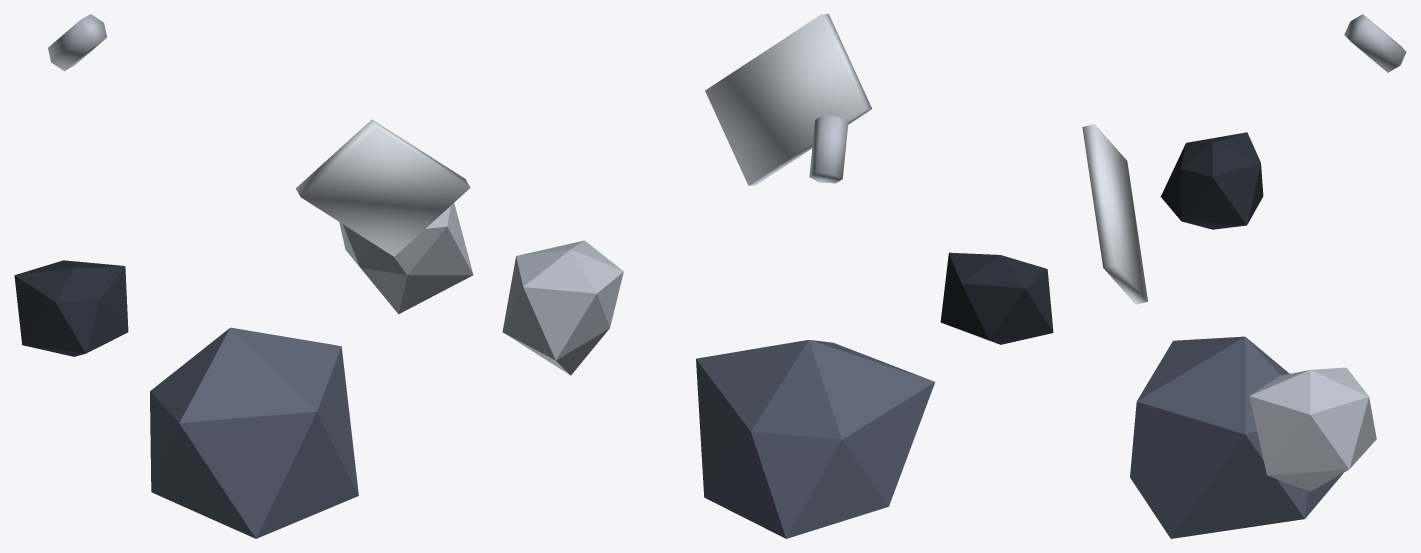
Rendered from Incident_Debris.glb.
3 renders of one model, left to right at view 1: azimuth 30°, elevation 25°; view 2: azimuth 150°, elevation 25°; view 3: azimuth 270°, elevation 25°, orthographic. The views are drawn at different scales.
Visible parts, largest first — view 1: Incident_Debris.Chunk0, Incident_Debris.Plate, Incident_Debris.Chunk2, Incident_Debris.Chunk1, Incident_Debris.Bolt; view 2: Incident_Debris.Chunk0, Incident_Debris.Plate, Incident_Debris.Chunk1, Incident_Debris.Chunk2, Incident_Debris.Bolt; view 3: Incident_Debris.Chunk0, Incident_Debris.Chunk1, Incident_Debris.Chunk2, Incident_Debris.Plate, Incident_Debris.Bolt.
Part boxes in pixels (x1=…): Incident_Debris.Chunk0: x1=150, y1=327, x2=358, y2=538; Incident_Debris.Plate: x1=296, y1=119, x2=470, y2=256; Incident_Debris.Chunk2: x1=14, y1=260, x2=128, y2=356; Incident_Debris.Chunk1: x1=339, y1=203, x2=473, y2=314; Incident_Debris.Bolt: x1=48, y1=14, x2=106, y2=71; Incident_Debris.Chunk0: x1=696, y1=340, x2=934, y2=538; Incident_Debris.Plate: x1=705, y1=14, x2=871, y2=185; Incident_Debris.Chunk1: x1=502, y1=240, x2=623, y2=375; Incident_Debris.Chunk2: x1=940, y1=252, x2=1053, y2=344; Incident_Debris.Bolt: x1=809, y1=115, x2=848, y2=183; Incident_Debris.Chunk0: x1=1130, y1=336, x2=1343, y2=538; Incident_Debris.Chunk1: x1=1249, y1=367, x2=1376, y2=491; Incident_Debris.Chunk2: x1=1160, y1=132, x2=1263, y2=229; Incident_Debris.Plate: x1=1082, y1=124, x2=1147, y2=304; Incident_Debris.Bolt: x1=1344, y1=14, x2=1406, y2=72.
Bounding box in the file's own units: 0.8343 × 0.788 × 0.4986.
